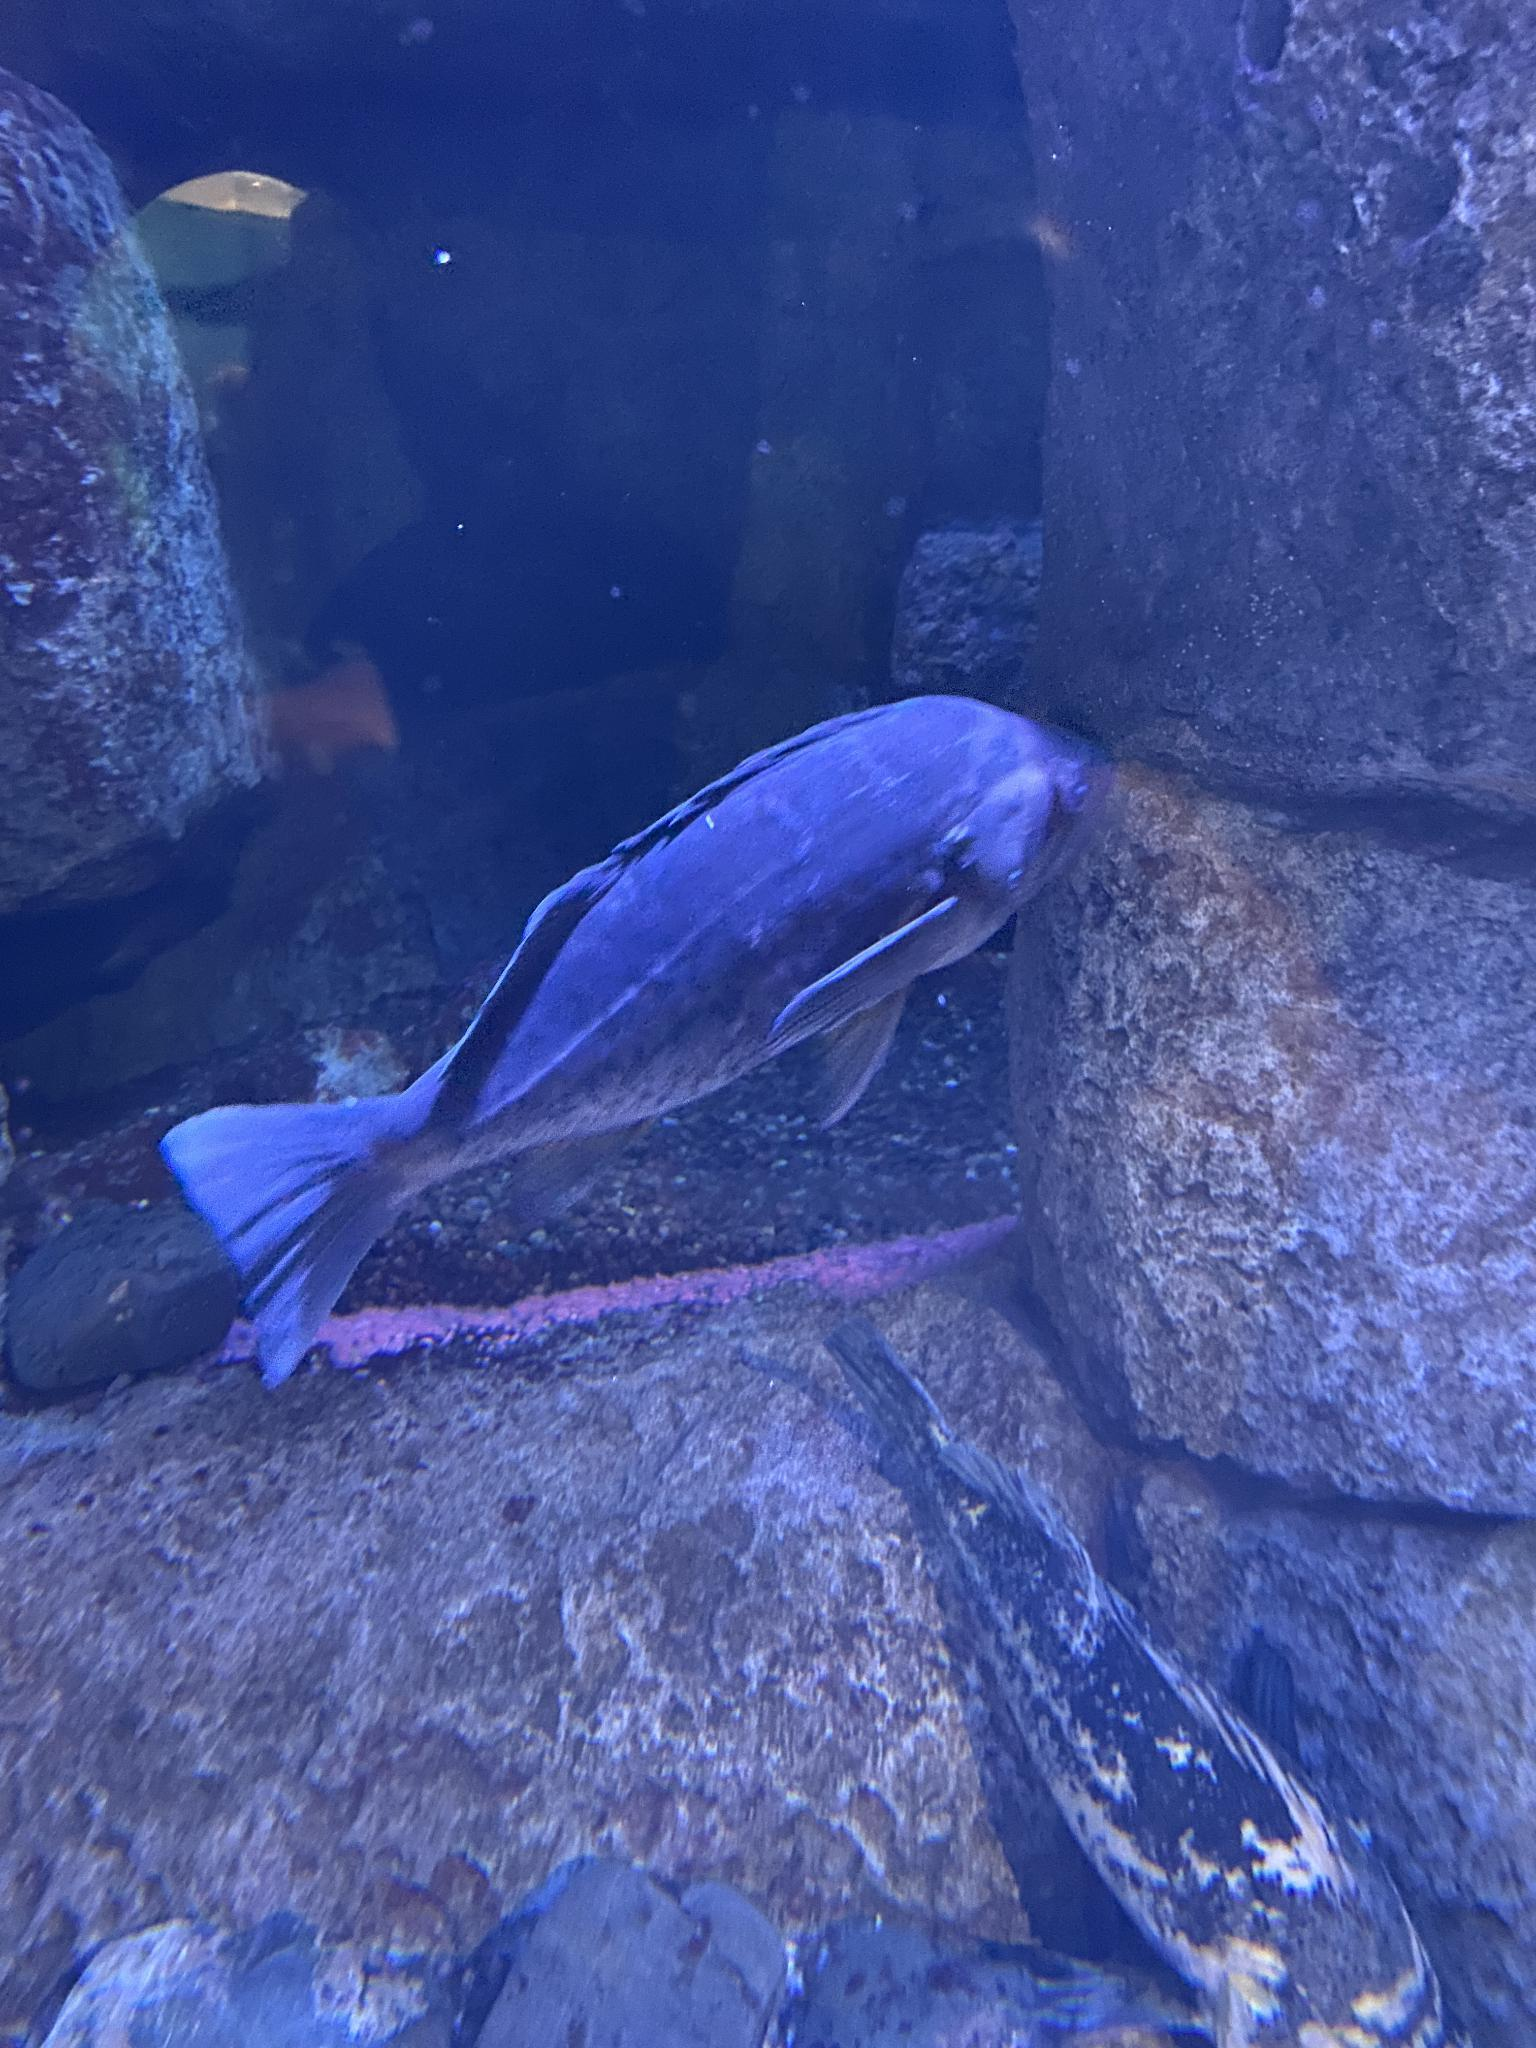fish: (161, 693, 1115, 1393), (828, 1314, 1446, 2046)
